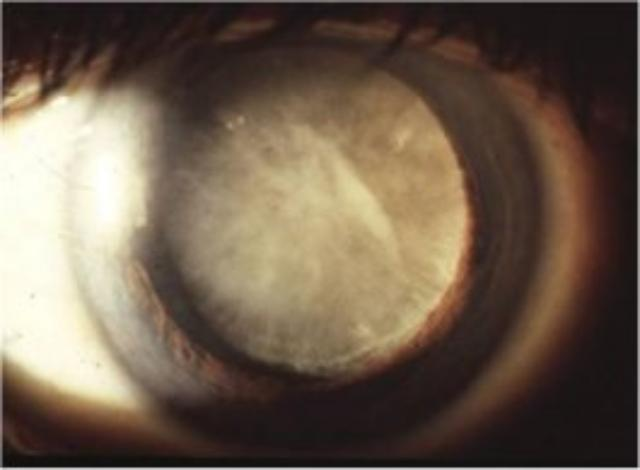eye: (54, 13, 608, 463)
